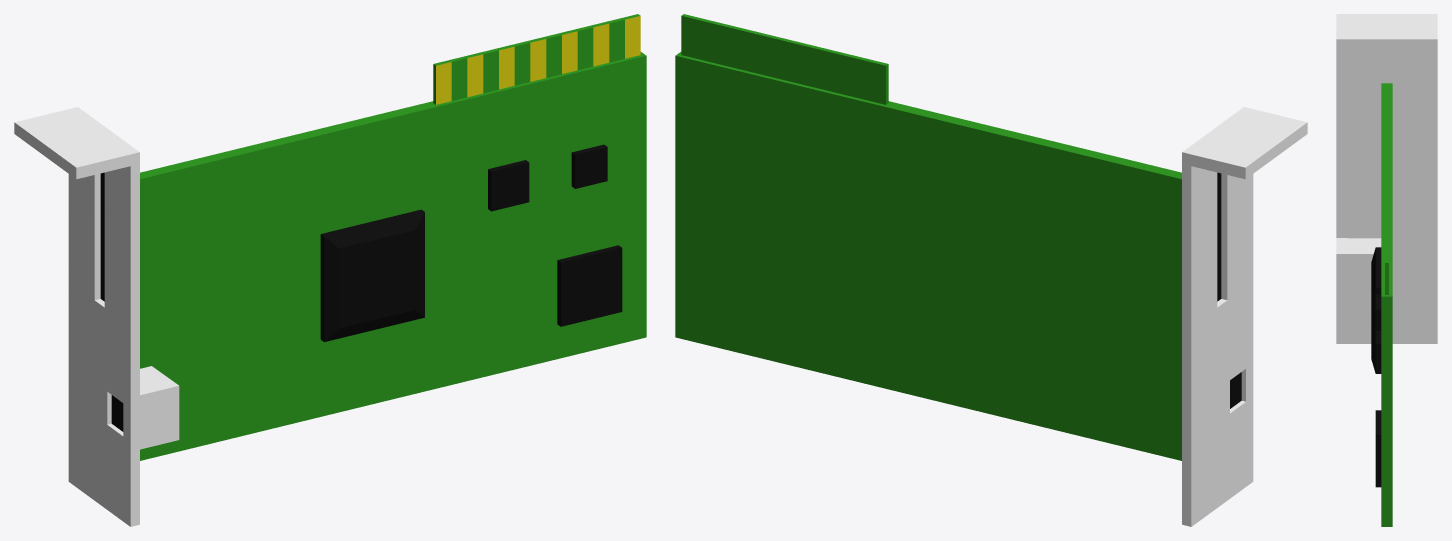
File: graphics_card.glb
3 views of the same model, side by side, from view 1: azimuth 30°, elevation 25°; view 2: azimuth 150°, elevation 25°; view 3: azimuth 270°, elevation 25° (orthographic). The views are drawn at different scales.
Visible parts, largest first — view 1: pci-e card; view 2: pci-e card; view 3: pci-e card.
Part boxes in pixels (bbox=[...]): pci-e card: bbox=[14, 14, 646, 526]; pci-e card: bbox=[675, 14, 1307, 526]; pci-e card: bbox=[1336, 14, 1437, 526].
Bounding box in the file's own units: 4.04 × 2.4 × 0.7248.
